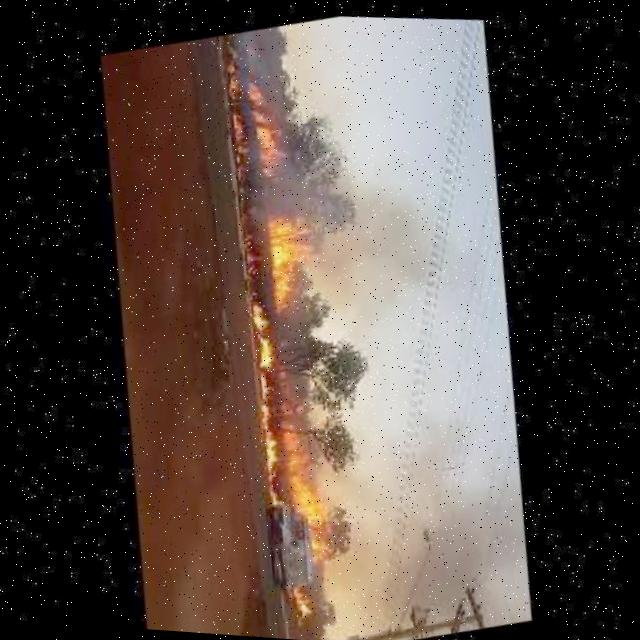fire: (171, 20, 332, 508), (274, 135, 455, 337), (265, 372, 350, 562), (254, 200, 324, 312), (240, 69, 302, 175), (285, 585, 315, 623)
